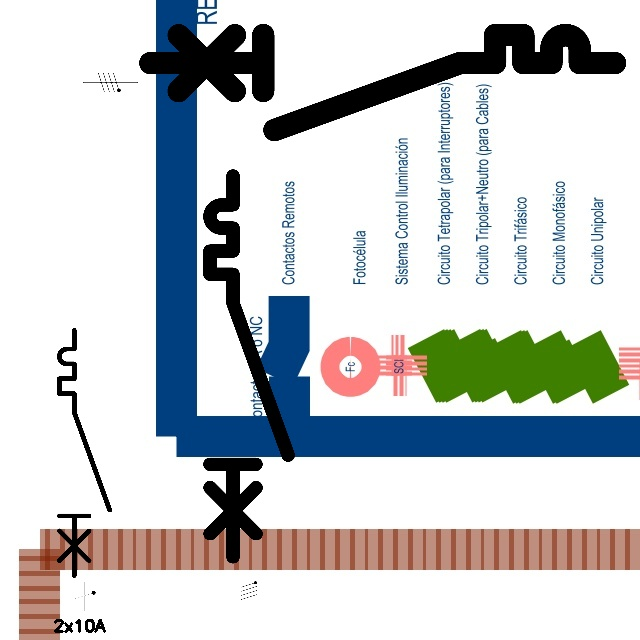interruptor_termomagnetico: (138, 23, 626, 142), (200, 166, 298, 567), (53, 324, 116, 582)
